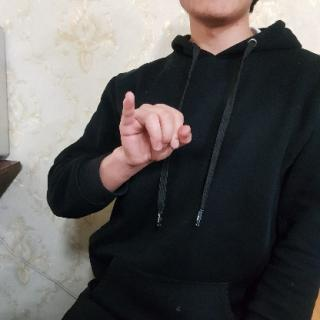MEEM: (115, 87, 195, 167)
